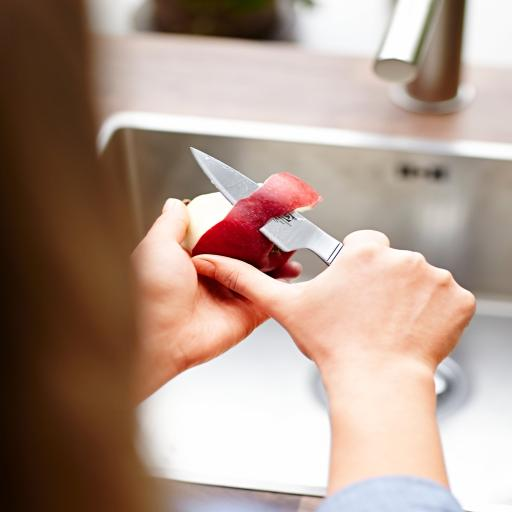knife: (196, 146, 345, 267)
